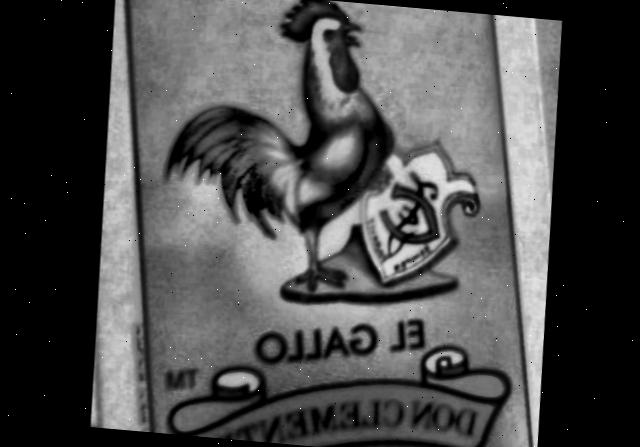Gallo: (130, 0, 527, 447)
